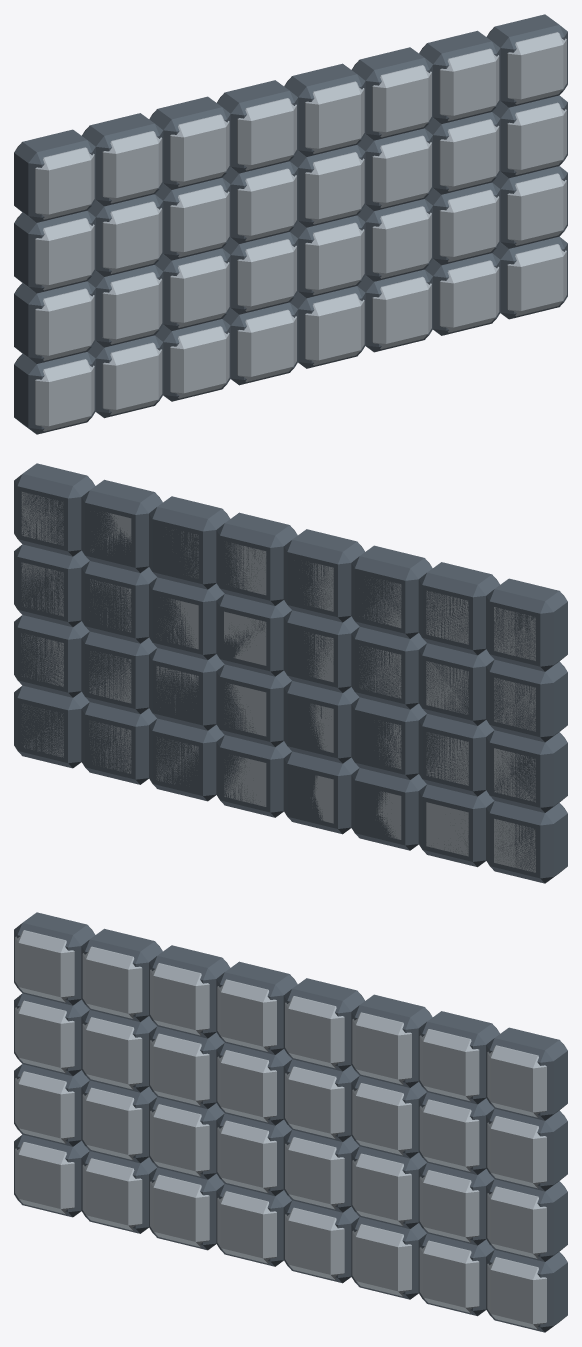
File: Terrain_Block8x4.gltf
The picture shows the model from 3 angles, top to bottom: view 1: azimuth 30°, elevation 25°; view 2: azimuth 150°, elevation 25°; view 3: azimuth 330°, elevation 25°; orthographic projection.
Visible parts, largest first — view 1: Terrain_Block8x4_baked; view 2: Terrain_Block8x4_baked; view 3: Terrain_Block8x4_baked.
Boxes of the visible parts, x1,y1,x2,y2 form: Terrain_Block8x4_baked: [14, 14, 567, 434]; Terrain_Block8x4_baked: [14, 463, 567, 883]; Terrain_Block8x4_baked: [14, 912, 567, 1332].
Size of the model in its own units: 8 by 4 by 0.7.
